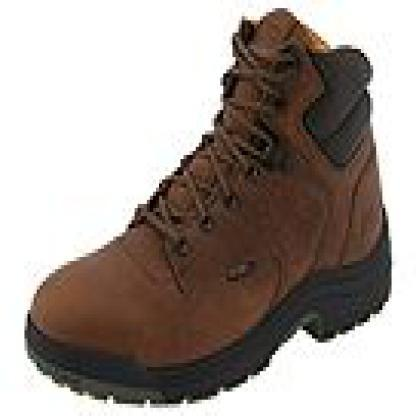bota: (19, 17, 399, 411)
